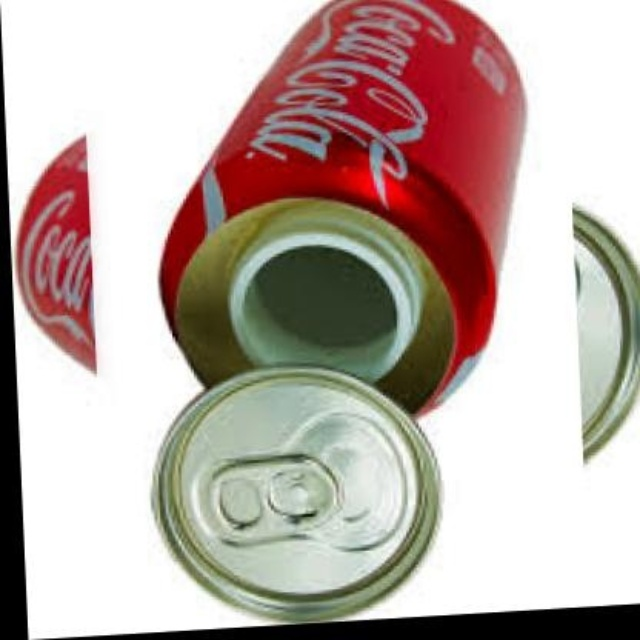trash: (160, 0, 523, 411), (154, 368, 438, 620)
